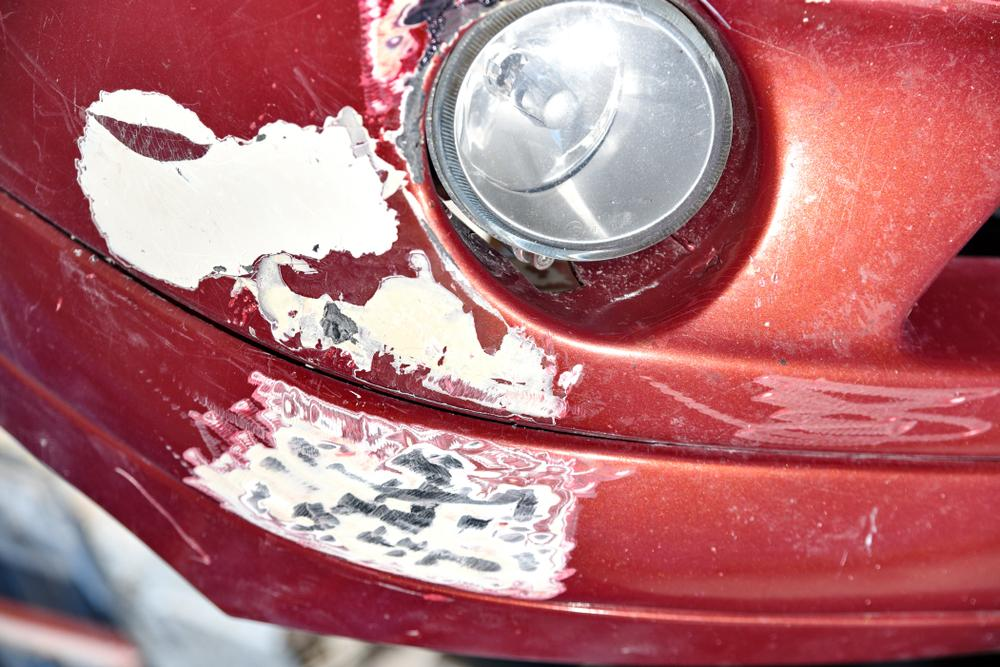scratch: (58, 0, 598, 438), (173, 372, 637, 614), (647, 366, 1000, 460)
